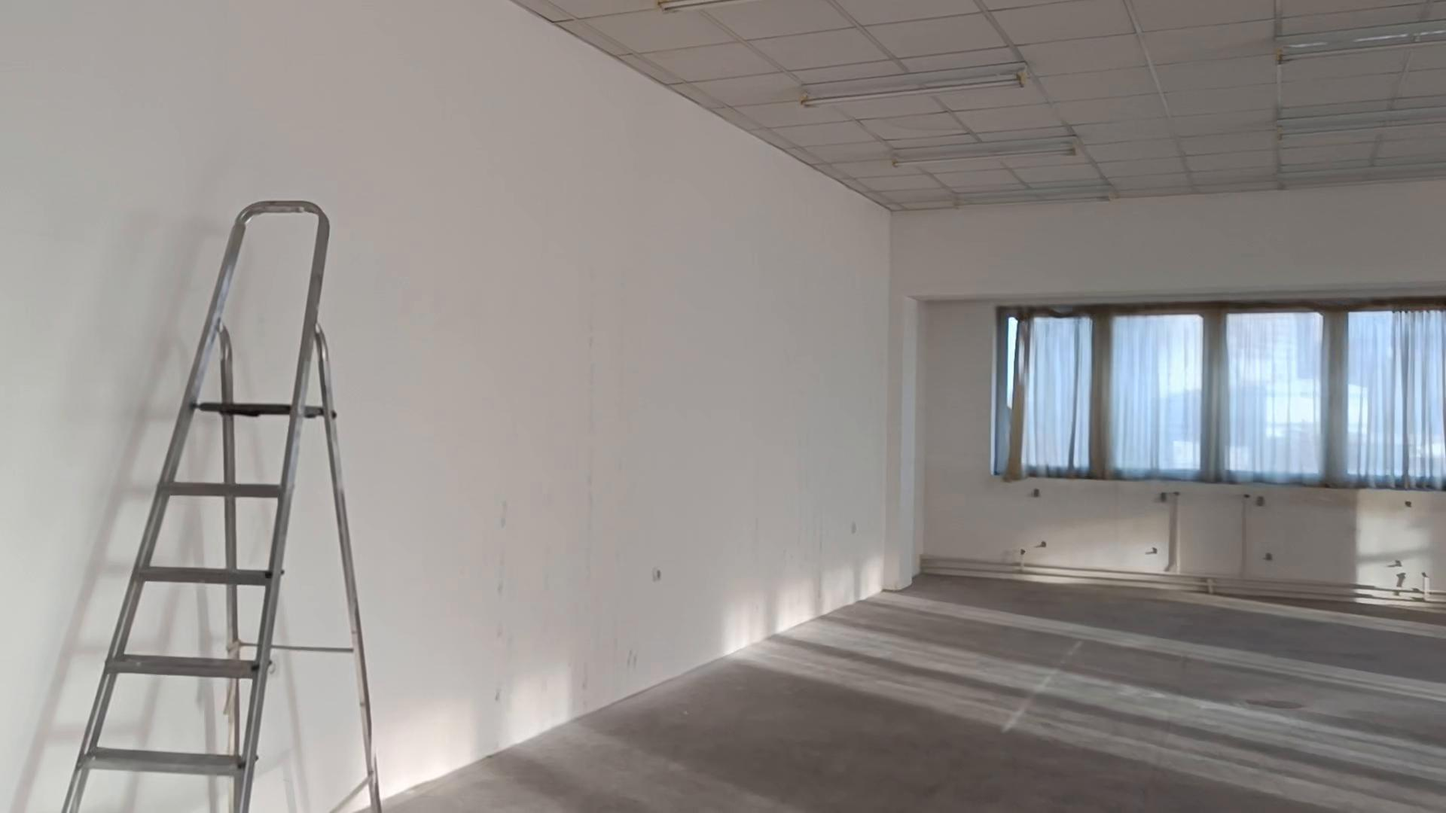ceiling: (514, 0, 1445, 209)
floor: (386, 576, 1445, 812)
wall: (0, 0, 1445, 811), (909, 484, 1443, 603), (255, 657, 359, 812)
